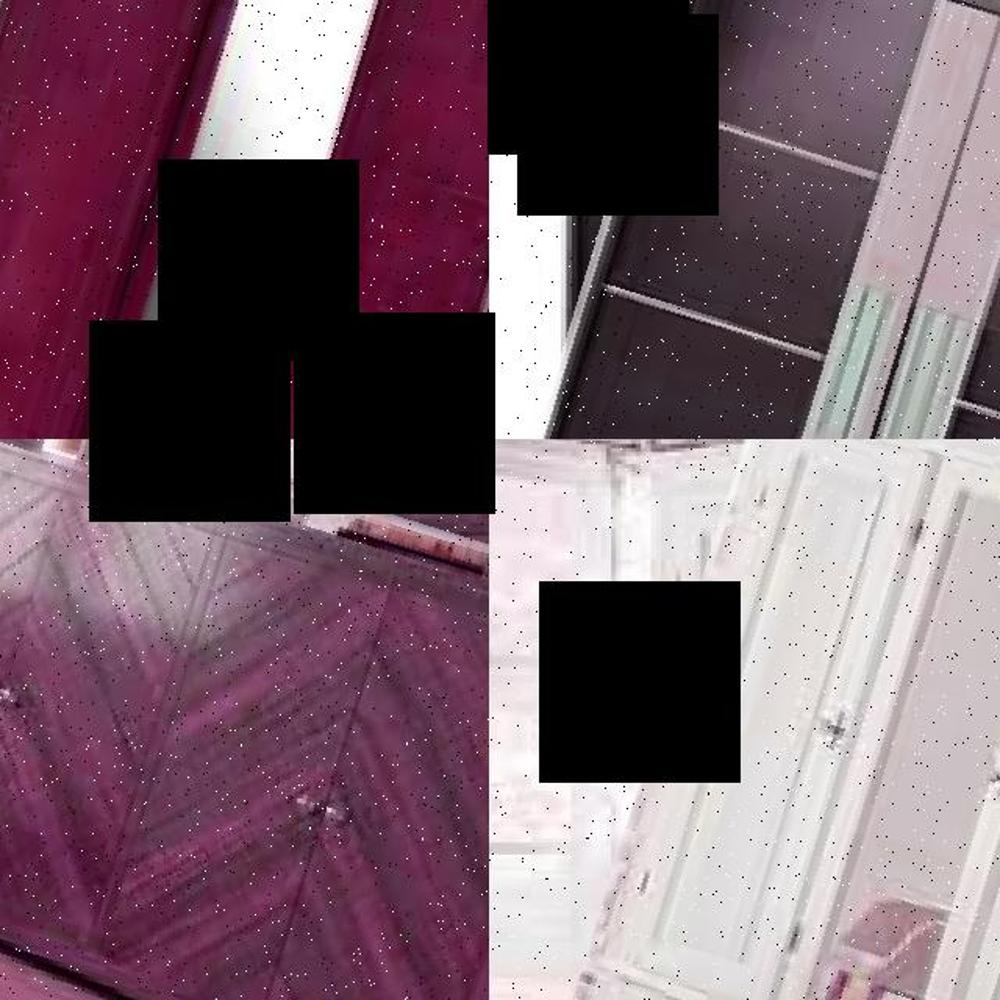cabinet: (0, 439, 489, 1000), (589, 439, 1000, 1000), (500, 0, 1000, 439), (0, 0, 489, 439)
